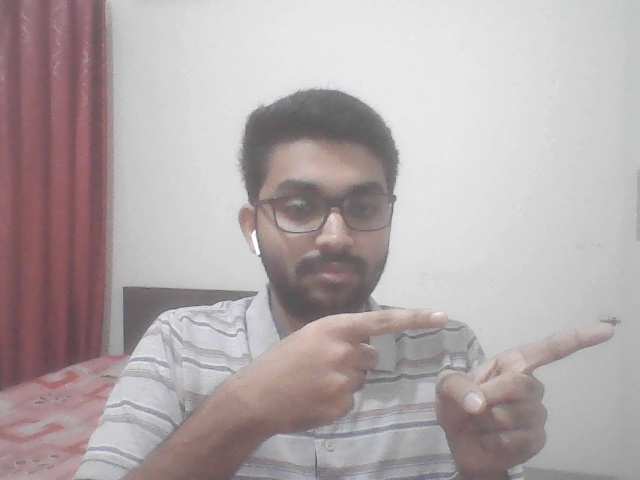go: (213, 304, 633, 465)
